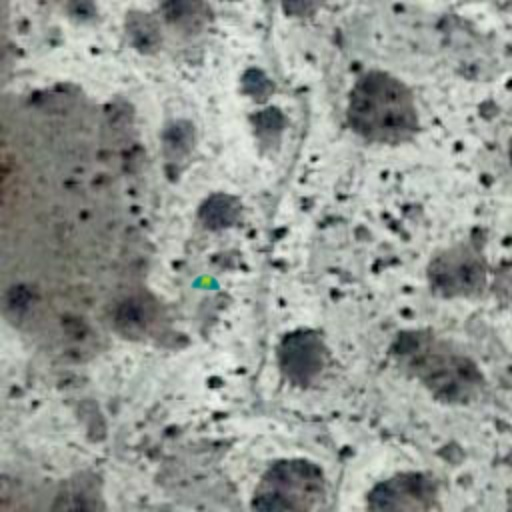semicircle: (190, 266, 222, 298)
